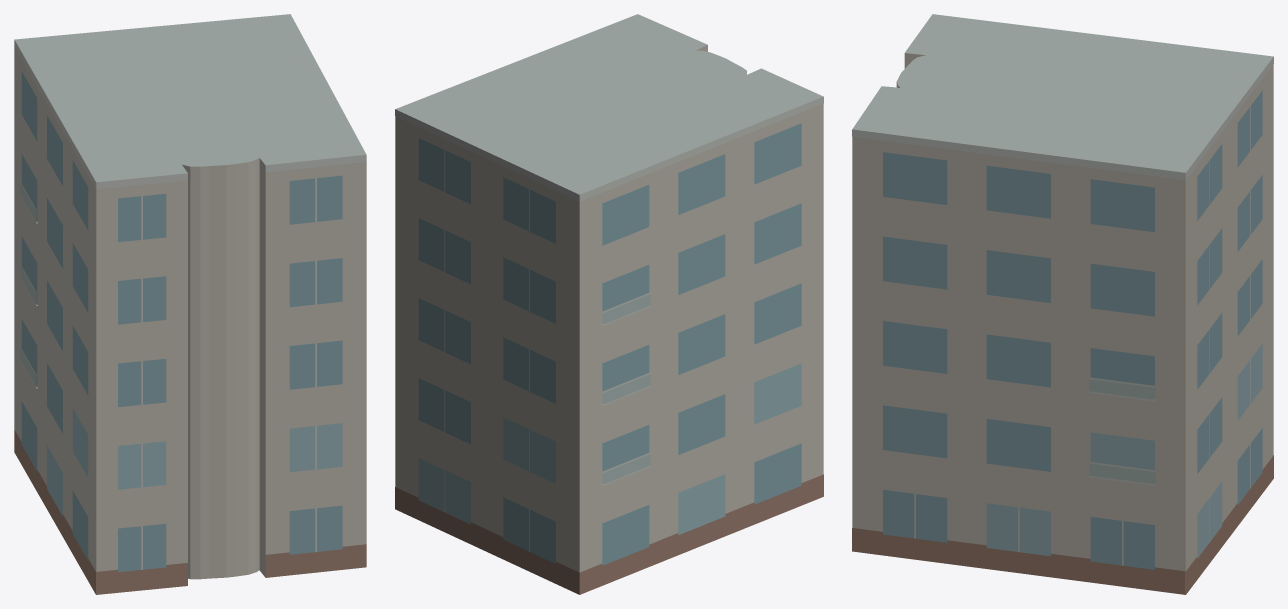
The model's file is survey-upis-32880125.glb.
The picture shows the model from 3 angles, left to right: view 1: azimuth 30°, elevation 25°; view 2: azimuth 150°, elevation 25°; view 3: azimuth 270°, elevation 25°; orthographic projection. The views are drawn at different scales.
Visible parts, largest first — view 1: survey-upis-32880125.tmp; view 2: survey-upis-32880125.tmp; view 3: survey-upis-32880125.tmp.
Part boxes in pixels (x1=…): survey-upis-32880125.tmp: x1=14, y1=14, x2=366, y2=594; survey-upis-32880125.tmp: x1=395, y1=14, x2=823, y2=594; survey-upis-32880125.tmp: x1=852, y1=14, x2=1273, y2=594.
Size of the model in its own units: 11.39 by 14.1 by 12.78.
